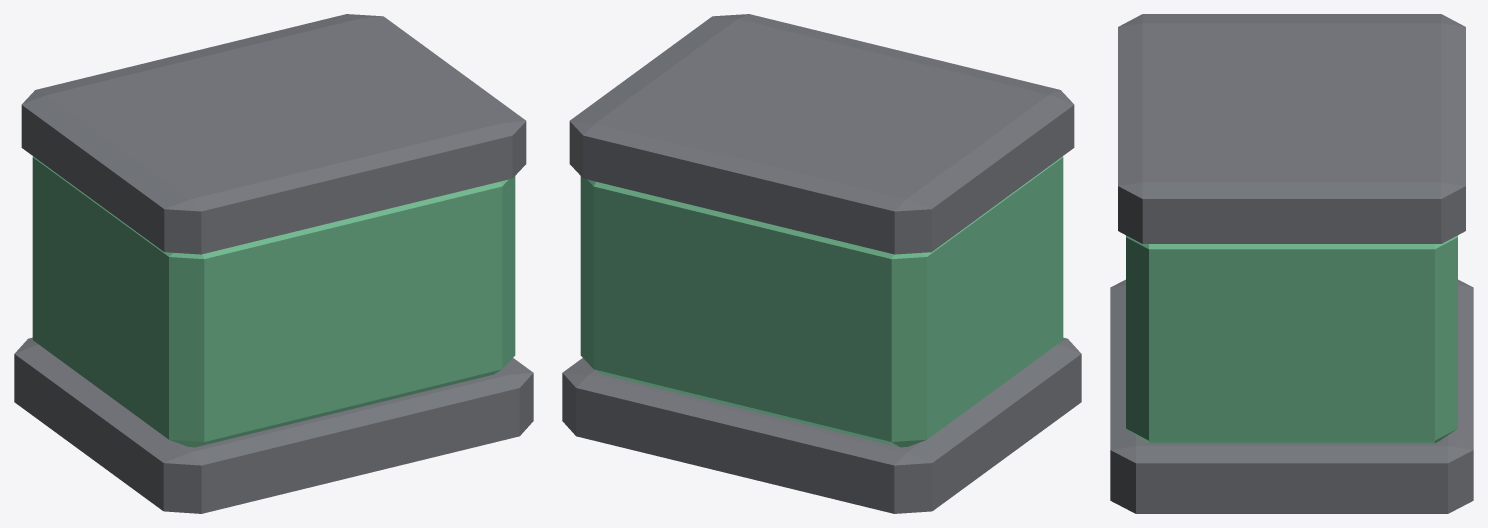
File: b05_padmount_transformer.glb
3 views of the same model, side by side, from view 1: azimuth 30°, elevation 25°; view 2: azimuth 150°, elevation 25°; view 3: azimuth 270°, elevation 25° (orthographic). The views are drawn at different scales.
Parts seen in each view (by area): view 1: b05_padmount_transformer; view 2: b05_padmount_transformer; view 3: b05_padmount_transformer.
Boxes of the visible parts, left/top/right/bottom form: b05_padmount_transformer: left=14, top=14, right=533, bottom=513; b05_padmount_transformer: left=562, top=14, right=1081, bottom=513; b05_padmount_transformer: left=1110, top=14, right=1473, bottom=513.
Size of the model in its own units: 1.7 by 1.34 by 1.38.
